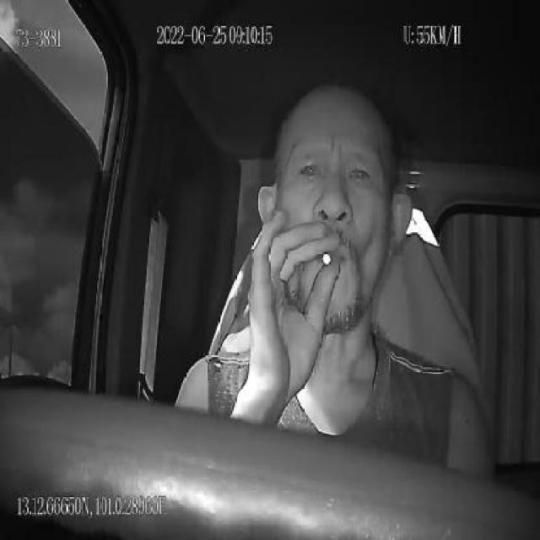smoking: (322, 250, 331, 264)
